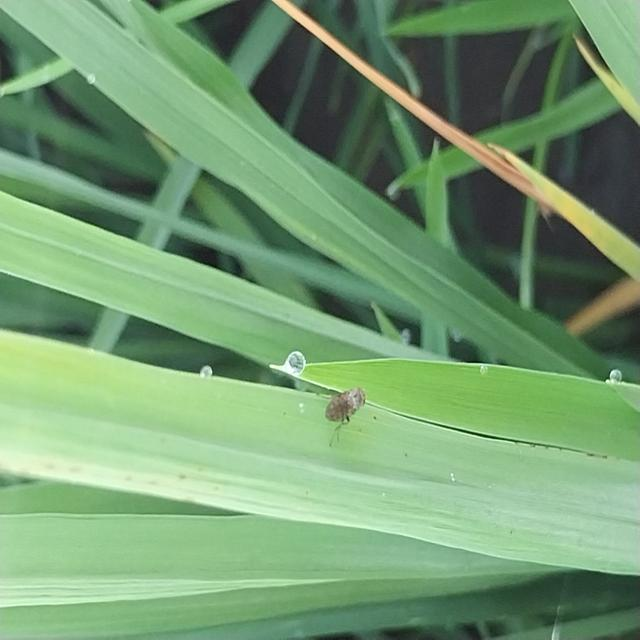healthy: (302, 377, 383, 450)
